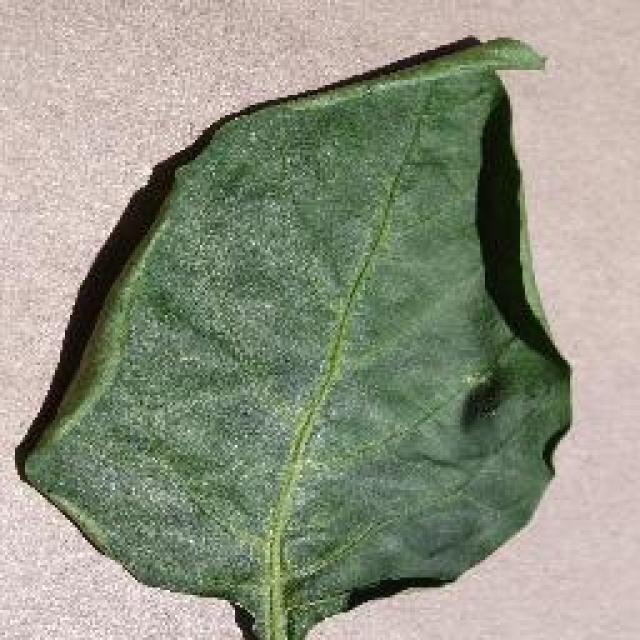Leaf: (228, 166, 517, 408), (124, 372, 202, 516)
